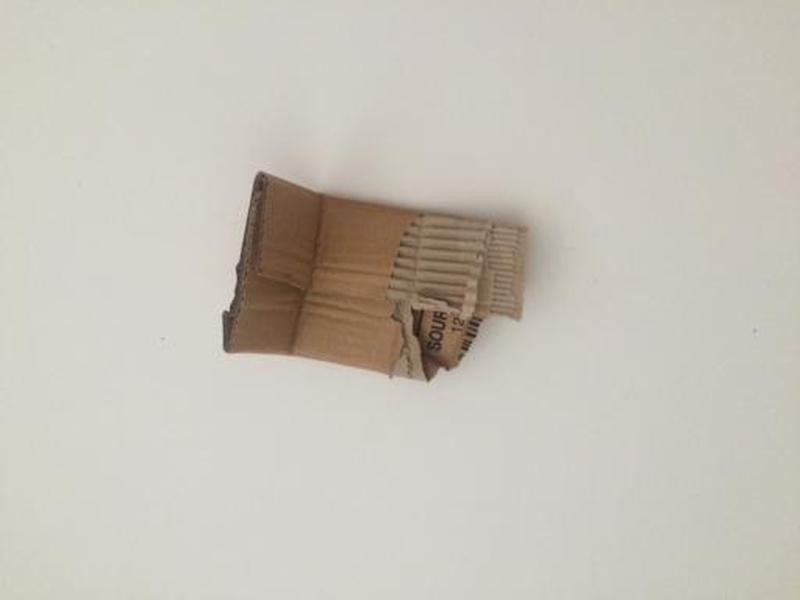cardboard: (217, 159, 533, 383)
